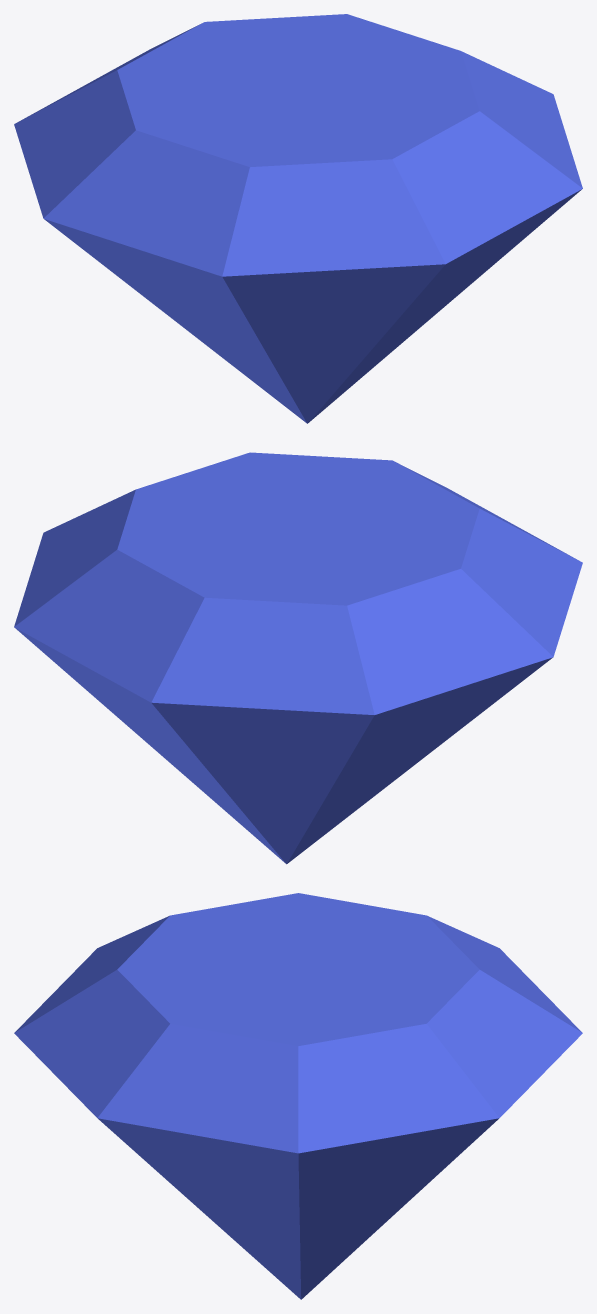
The model's file is gemstone.fbx.
3 renders of one model, top to bottom at view 1: azimuth 30°, elevation 25°; view 2: azimuth 150°, elevation 25°; view 3: azimuth 270°, elevation 25°, orthographic. The views are drawn at different scales.
Visible parts, largest first — view 1: Cone; view 2: Cone; view 3: Cone.
Boxes of the visible parts, left/top/right/bottom form: Cone: left=14, top=14, right=582, bottom=423; Cone: left=14, top=452, right=582, bottom=864; Cone: left=14, top=893, right=582, bottom=1299.
Bounding box in the file's own units: 200 × 126 × 200.
